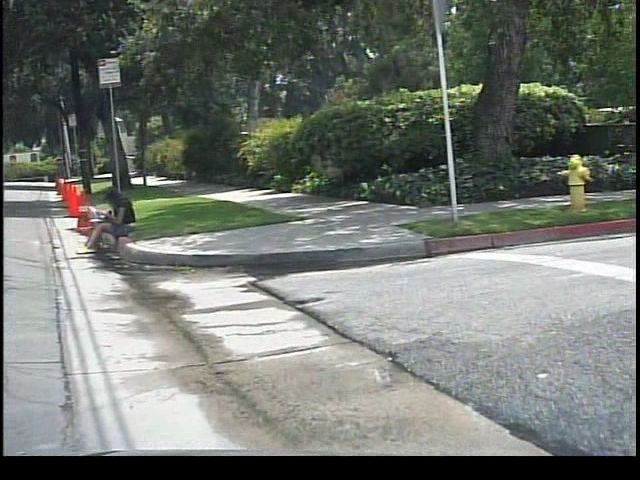person: (79, 184, 144, 257)
